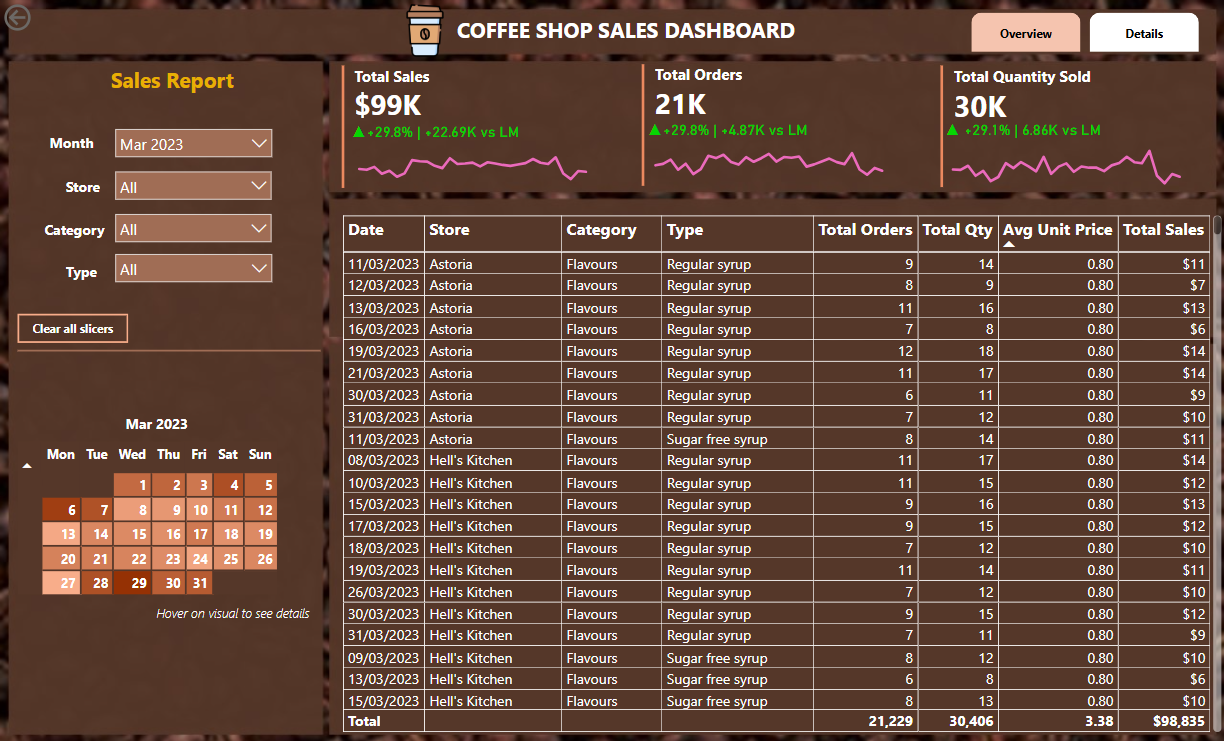

The dashboard page shown, as its layout file describes it:
{"tool":"powerbi","page":{"name":"Details","canvas":[1400,850],"ordinal":1},"visuals":[{"type":"textbox","box":[516.7,13.3,421.7,55],"z":0},{"type":"cardVisual","fields":{"Data":["Measures Table.Total_sold_qty"]},"box":[1069.6,69.6,300.5,149.5],"z":0,"group":"g3"},{"type":"slicer","fields":{"Values":["Transactions.store_location"]},"box":[121.4,184.9,199.1,48.2],"z":0,"group":"g6"},{"type":"group","id":"g1","title":"Group 1","box":[385.2,69.6,299.3,151.1],"z":1000},{"type":"cardVisual","fields":{"Data":["Measures Table.Total Sales"]},"box":[385.2,69.6,290.6,151],"z":1000,"group":"g1"},{"type":"slicer","fields":{"Values":["Date Table.Month_Year"]},"box":[120.9,136.7,199.6,66.5],"z":1000,"group":"g5"},{"type":"lineChart","fields":{"Y":["Measures Table.Total Quantity Sold"],"Category":["Date Table.Date.Variation.Date Hierarchy.Year"]},"box":[1073.2,137.3,289.1,79.8],"z":1000,"group":"g3"},{"type":"slicer","fields":{"Values":["Transactions.product_category"]},"box":[121.4,233.1,199.1,58.2],"z":1000,"group":"g6"},{"type":"group","id":"g2","title":"Group 2","box":[728.9,68.1,299.3,149.6],"z":2000},{"type":"slicer","fields":{"Values":["Transactions.product_type"]},"box":[120.9,279.7,199.6,64.9],"z":2000,"group":"g6"},{"type":"cardVisual","fields":{"Data":["Measures Table.Total Orders"]},"box":[728.9,68.1,299.1,149.5],"z":3000,"group":"g2"},{"type":"group","id":"g3","title":"Group 3","box":[1069.6,69.6,300.7,148.1],"z":3000},{"type":"lineChart","fields":{"Category":["Date Table.Date.Variation.Date Hierarchy.Year"],"Y":["Measures Table.Total Sales"]},"box":[394.6,139.7,289.1,81.2],"z":3000,"group":"g1"},{"type":"textbox","box":[70.3,196.5,93.4,48.2],"z":3000,"group":"g6"},{"type":"lineChart","fields":{"Y":["Measures Table.Total Orders"],"Category":["Date Table.Date.Variation.Date Hierarchy.Year"]},"box":[735,136.2,289.1,79.8],"z":4000,"group":"g2"},{"type":"textbox","box":[45.6,244.8,93.4,48.2],"z":4000,"group":"g6"},{"type":"shape","box":[20,375,346.7,50],"z":4000},{"type":"textbox","box":[70.3,293,93.4,48.2],"z":5000,"group":"g6"},{"type":"group","id":"g4","title":"Group 5","box":[15,466.7,360,245.6],"z":5000},{"type":"pivotTable","fields":{"Rows":["Date Table.Week Number"],"Columns":["Date Table.Day Name"],"Values":["Sum(Date Table.Day)"]},"box":[15,498.9,341.7,190],"z":5000,"group":"g4"},{"type":"textbox","box":[121.7,70,166.7,51.7],"z":6000},{"type":"card","fields":{"Values":["Min(Date Table.Month_Year)"]},"box":[128.3,466.7,101.7,38.3],"z":6000,"group":"g4"},{"type":"image","box":[435.8,0,99.7,69.8],"z":7000},{"type":"textbox","box":[51.2,146.7,99.8,48.2],"z":7000,"group":"g5"},{"type":"card","fields":{"Values":["Measures Table.Foot Note"]},"box":[156.7,687.3,218.3,25],"z":7000,"group":"g4"},{"type":"tableEx","fields":{"Values":["Transactions.transaction_date","Transactions.store_location","Transactions.product_category","Transactions.product_type","Measures Table.Total Orders","Measures Table.Total Quantity Sold","Avg(Transactions.unit_price)","Measures Table.Total Sales"]},"box":[385,241.7,1015,600],"z":8000},{"type":"group","id":"g5","title":"Group 6","box":[45.6,136.7,274.9,207.9],"z":9000},{"type":"actionButton","box":[20,358.3,126.7,33.3],"z":10000},{"type":"actionButton","box":[0,0,100,40],"z":11000},{"type":"pageNavigator","box":[1110,14.3,261.4,45.7],"z":11001},{"type":"group","id":"g6","title":"Group 4","box":[45.6,184.9,274.9,159.7],"z":14004,"group":"g5"}]}

Visuals, with their boxes in screenshot pixels (x1, y1, x2, y2), scaled from the page's 1400x850 canvas onto the 1224x741 screenshot:
textbox: region(452, 12, 820, 60)
cardVisual - Measures Table.Total_sold_qty: region(935, 61, 1198, 191)
slicer - Transactions.store_location: region(106, 161, 280, 203)
"Group 1" group: region(337, 61, 598, 192)
cardVisual - Measures Table.Total Sales: region(337, 61, 591, 192)
slicer - Date Table.Month_Year: region(106, 119, 280, 177)
lineChart - Measures Table.Total Quantity Sold x Date Table.Date.Variation.Date Hierarchy.Year: region(938, 120, 1191, 189)
slicer - Transactions.product_category: region(106, 203, 280, 254)
"Group 2" group: region(637, 59, 899, 190)
slicer - Transactions.product_type: region(106, 244, 280, 300)
cardVisual - Measures Table.Total Orders: region(637, 59, 899, 190)
"Group 3" group: region(935, 61, 1198, 190)
lineChart - Date Table.Date.Variation.Date Hierarchy.Year x Measures Table.Total Sales: region(345, 122, 598, 193)
textbox: region(61, 171, 143, 213)
lineChart - Measures Table.Total Orders x Date Table.Date.Variation.Date Hierarchy.Year: region(643, 119, 895, 188)
textbox: region(40, 213, 122, 255)
shape: region(17, 327, 321, 370)
textbox: region(61, 255, 143, 297)
"Group 5" group: region(13, 407, 328, 621)
pivotTable - Date Table.Week Number x Date Table.Day Name: region(13, 435, 312, 601)
textbox: region(106, 61, 252, 106)
card - Min(Date Table.Month_Year): region(112, 407, 201, 440)
image: region(381, 0, 468, 61)
textbox: region(45, 128, 132, 170)
card - Measures Table.Foot Note: region(137, 599, 328, 621)
tableEx - Transactions.transaction_date x Transactions.store_location: region(337, 211, 1223, 734)
"Group 6" group: region(40, 119, 280, 300)
actionButton: region(17, 312, 128, 341)
actionButton: region(0, 0, 87, 35)
pageNavigator: region(970, 12, 1199, 52)
"Group 4" group: region(40, 161, 280, 300)
